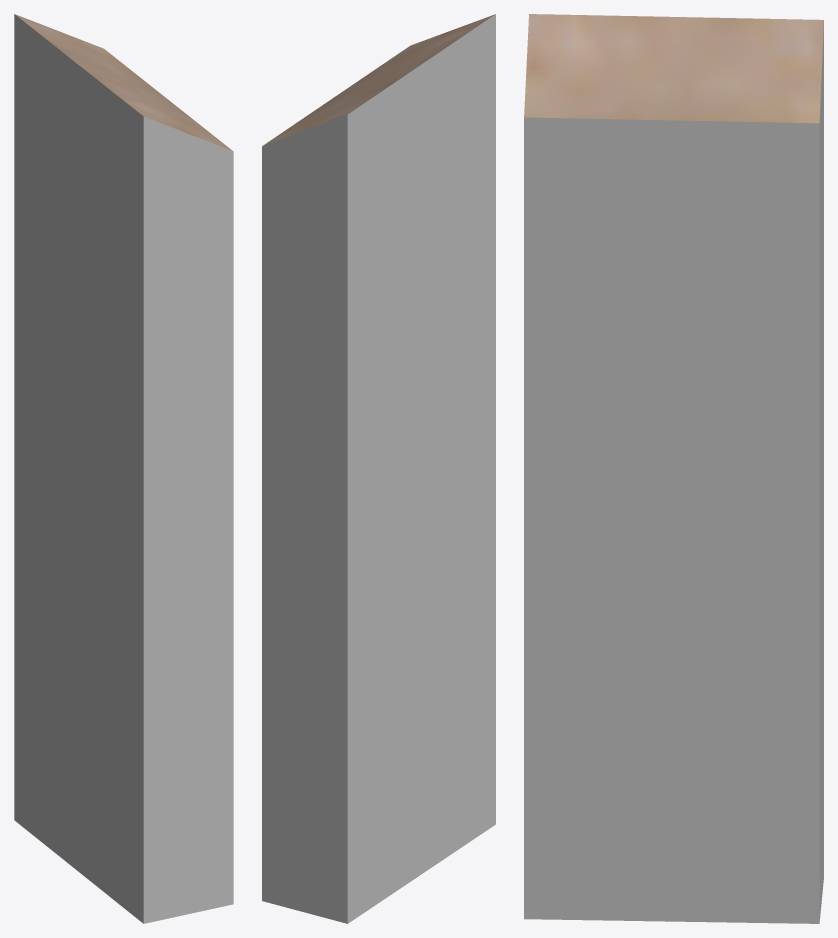
File: DEBW_0010007THXX.gltf
3 renders of one model, left to right at view 1: azimuth 30°, elevation 25°; view 2: azimuth 150°, elevation 25°; view 3: azimuth 270°, elevation 25°, orthographic. The views are drawn at different scales.
Visible parts, largest first — view 1: Z_UP; view 2: Z_UP; view 3: Z_UP.
Boxes of the visible parts, left/top/right/bottom form: Z_UP: left=14, top=14, right=233, bottom=923; Z_UP: left=262, top=14, right=495, bottom=923; Z_UP: left=524, top=14, right=823, bottom=923.
Bounding box in the file's own units: 1.89 × 15.09 × 4.77.
2 materials, 1 textured.
